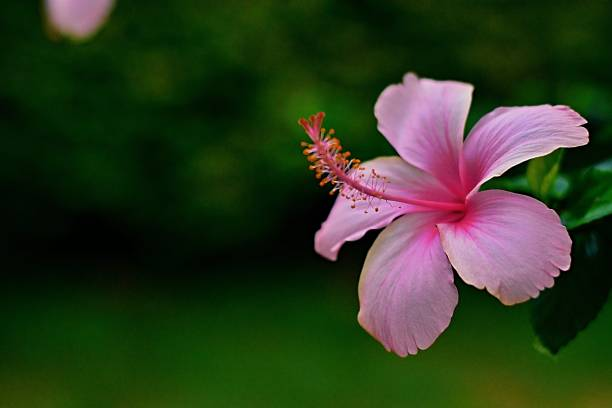Hibiscus: (316, 63, 586, 347)
